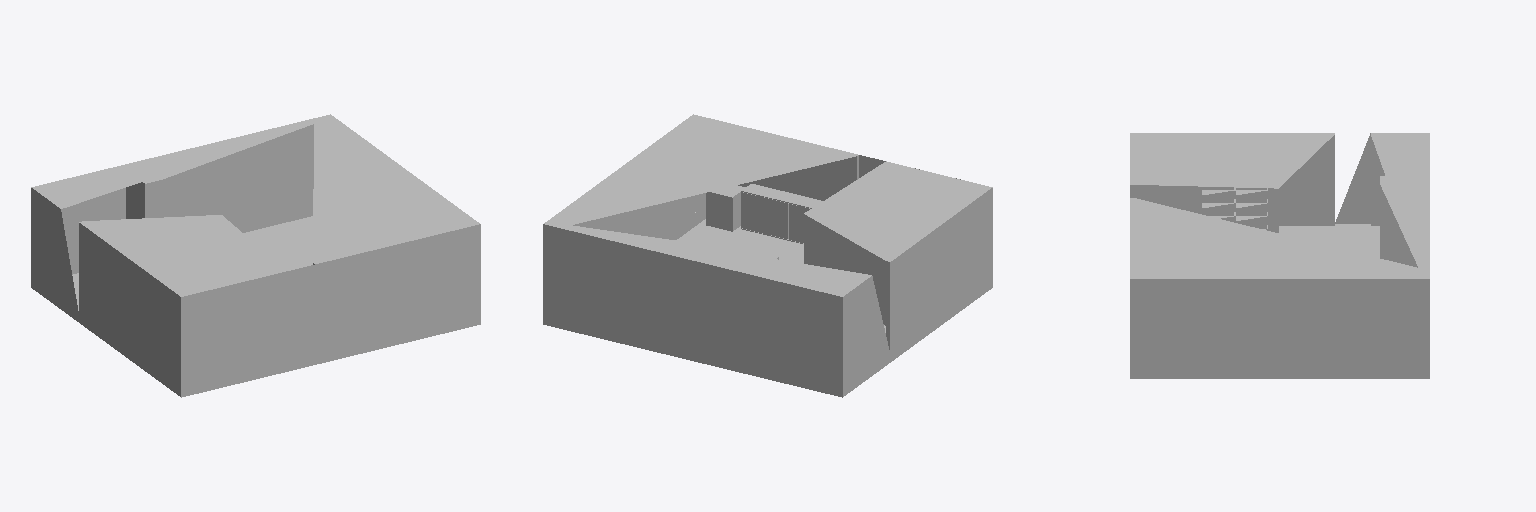
File: Edge Floor plan _birdseye.obj
3 views of the same model, side by side, from view 1: azimuth 30°, elevation 25°; view 2: azimuth 150°, elevation 25°; view 3: azimuth 270°, elevation 25° (orthographic).
Visible parts, largest first — view 1: Mesh3 Group2 Edge_space_duplicate1 Model; view 2: Mesh3 Group2 Edge_space_duplicate1 Model, Mesh4 cabinet1 Group3 Edge_space_duplicate1 Model, Mesh2 Group1 Model; view 3: Mesh3 Group2 Edge_space_duplicate1 Model.
Part boxes in pixels (x1,y1,x2,y2): Mesh3 Group2 Edge_space_duplicate1 Model: (31,114,480,397); Mesh3 Group2 Edge_space_duplicate1 Model: (543,114,992,397); Mesh4 cabinet1 Group3 Edge_space_duplicate1 Model: (741,184,822,243); Mesh2 Group1 Model: (706,185,745,231); Mesh3 Group2 Edge_space_duplicate1 Model: (1130,133,1429,378).
Size of the model in its own units: 339 by 109 by 294.